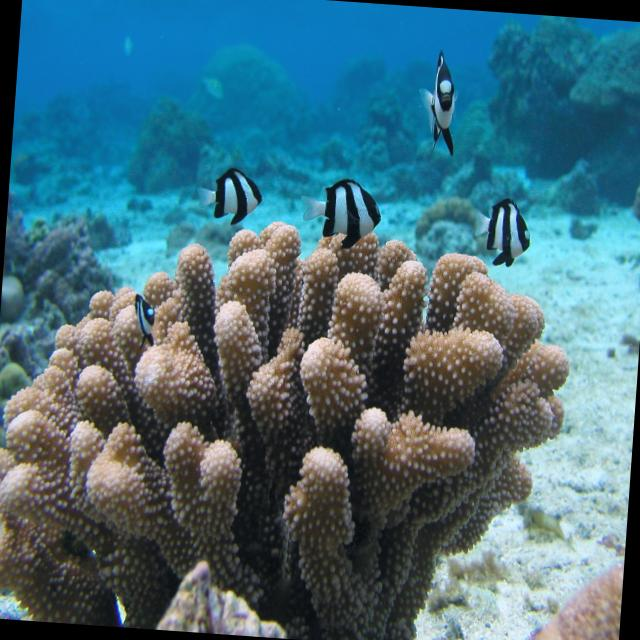Three_striped DasmselFish: (299, 172, 382, 250), (413, 47, 463, 156), (467, 195, 534, 270), (197, 162, 264, 228), (130, 292, 160, 348)
